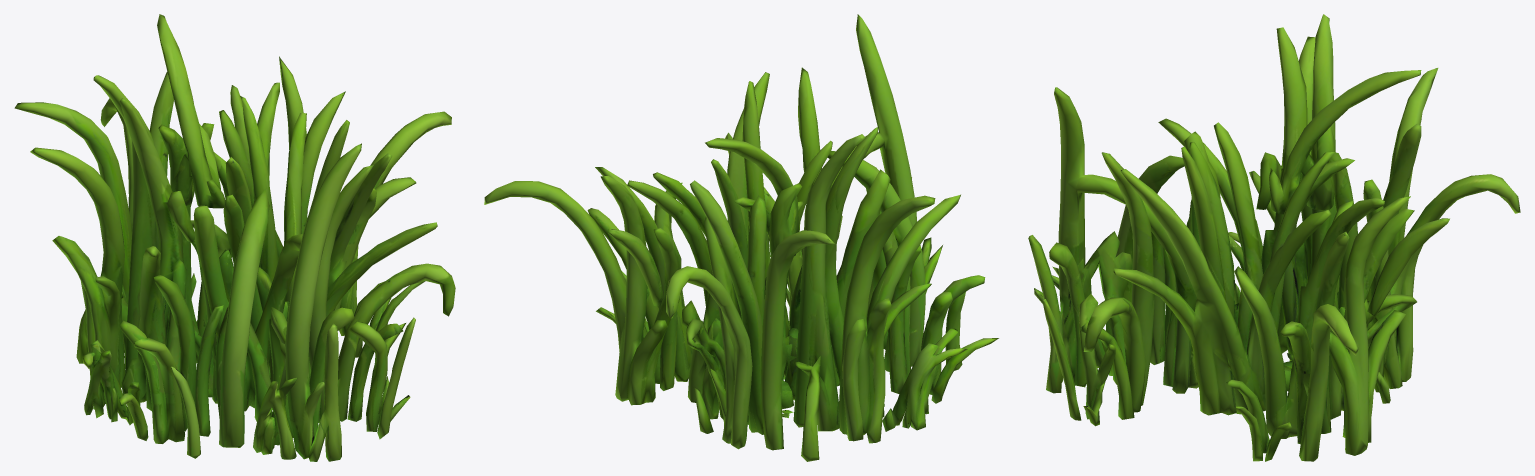
File: Grass2.glb
3 views of the same model, side by side, from view 1: azimuth 30°, elevation 25°; view 2: azimuth 150°, elevation 25°; view 3: azimuth 270°, elevation 25° (orthographic). The views are drawn at different scales.
Size of the model in its own units: 2 by 1.4 by 1.88.
1 material, 1 textured.
